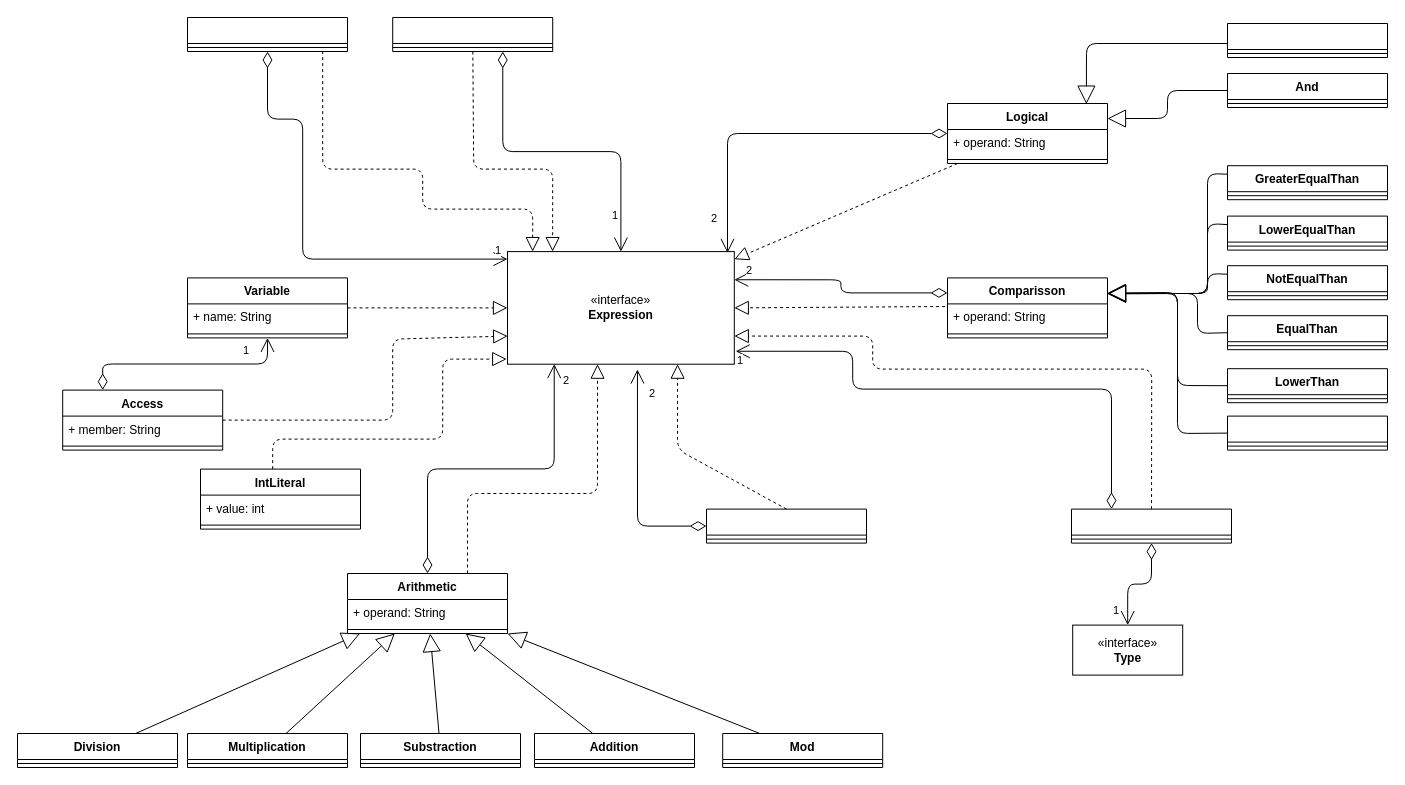
Some shapes in this 1405 by 785 pixel diagram are drawn without their labels. Each missing label, with the centre of its shape:
Cast: the point at 1151,525
GreaterThan: the point at 1307,432
Indexing: the point at 786,525
Or: the point at 1307,40
UnaryMinus: the point at 472,34
UnaryNot: the point at 267,34
